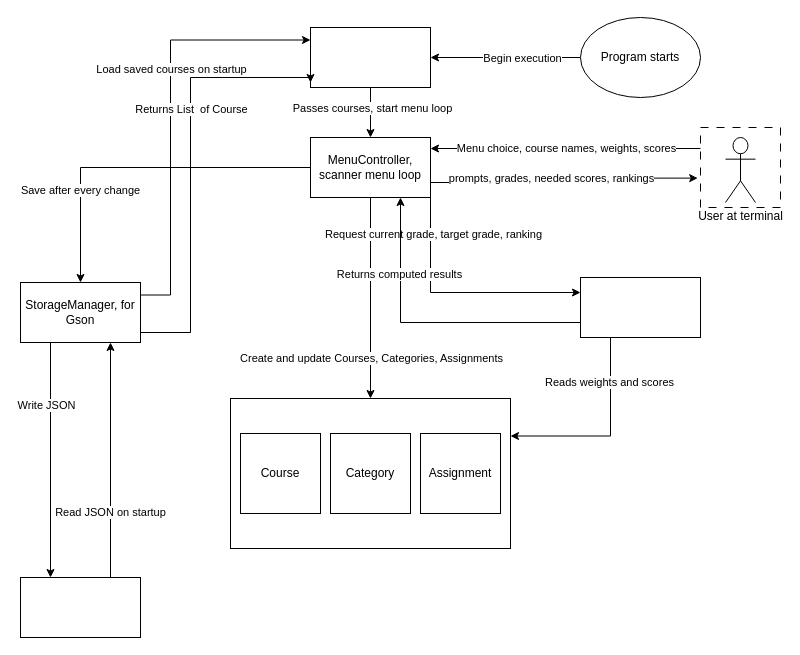
The diagram is 800 pixels wide and 655 high, and some of its shapes have lost their labels. Here are the shapes that lost their labels. From the top down, the centre of each, then its label:
point 370,57: Main, entry point
point 640,307: GradeCalculator
point 80,607: courses.json
